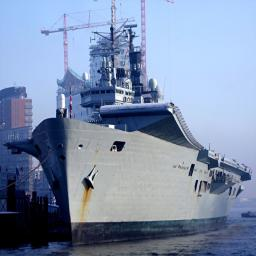Portanaves: (8, 33, 256, 249)
